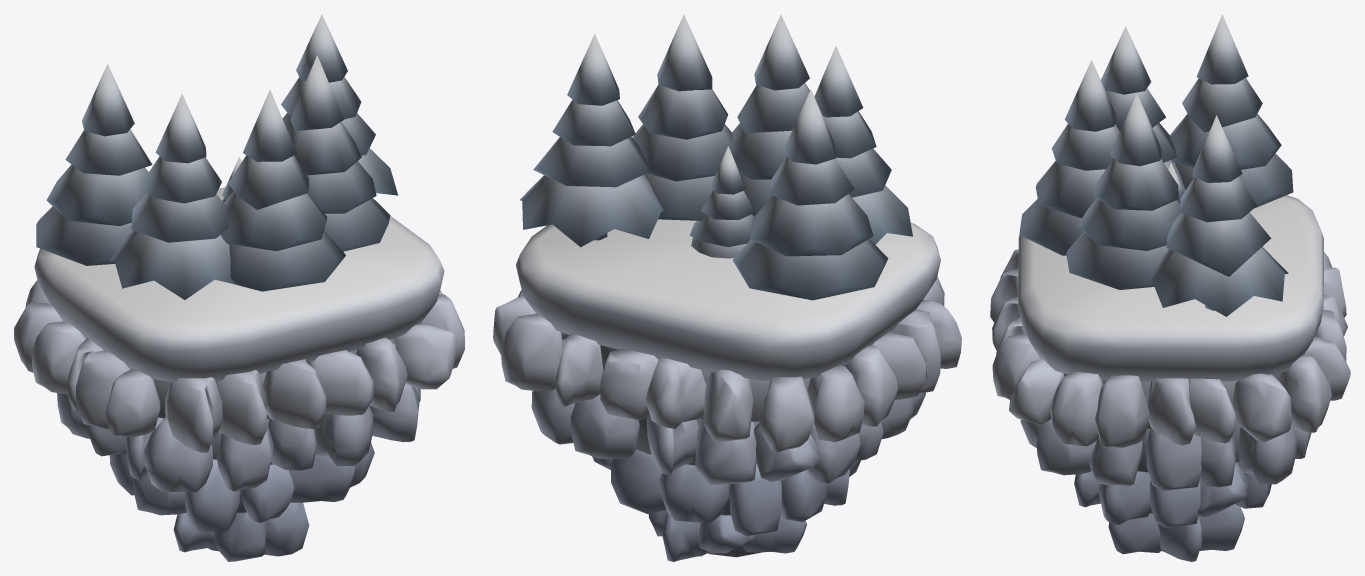
File: far_pine.glb
3 views of the same model, side by side, from view 1: azimuth 30°, elevation 25°; view 2: azimuth 150°, elevation 25°; view 3: azimuth 270°, elevation 25° (orthographic). The views are drawn at different scales.
Visible parts, largest first — view 1: far_pine; view 2: far_pine; view 3: far_pine.
Boxes of the visible parts, x1=… form: far_pine: x1=14, y1=14, x2=464, y2=561; far_pine: x1=493, y1=14, x2=961, y2=561; far_pine: x1=990, y1=14, x2=1350, y2=561.
Bounding box in the file's own units: 3.63 × 4.6 × 3.17.
